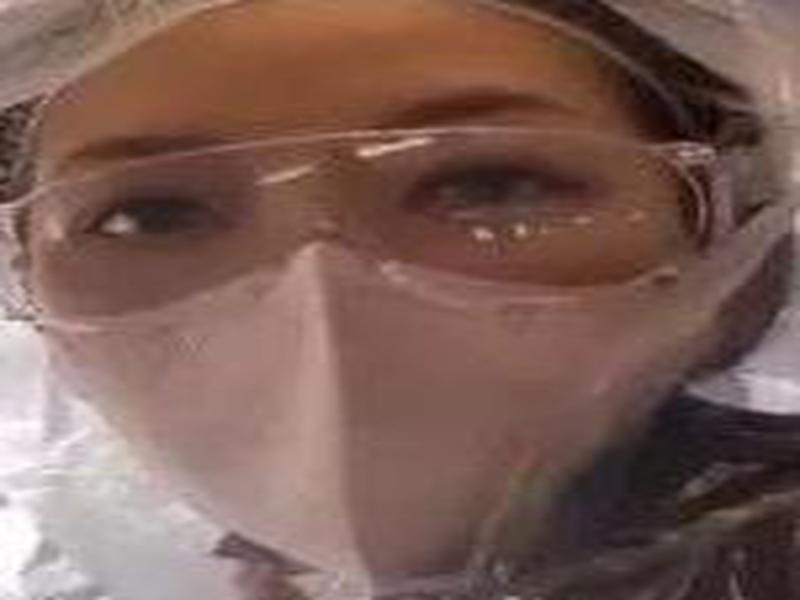with_mask: (1, 5, 766, 582)
